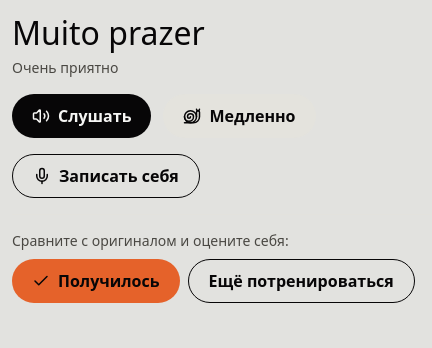
Test case: SpeakShadow › with a stubbed MediaRecorder › denied microphone → «Нет доступа к микрофону»
Click the button "Записать себя".
click(106, 176)  # box [12,154,200,198]
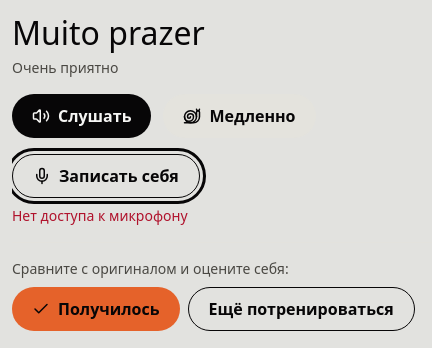
Check: the text "Нет доступа к микрофону" is shown, box [12,206,188,225]
